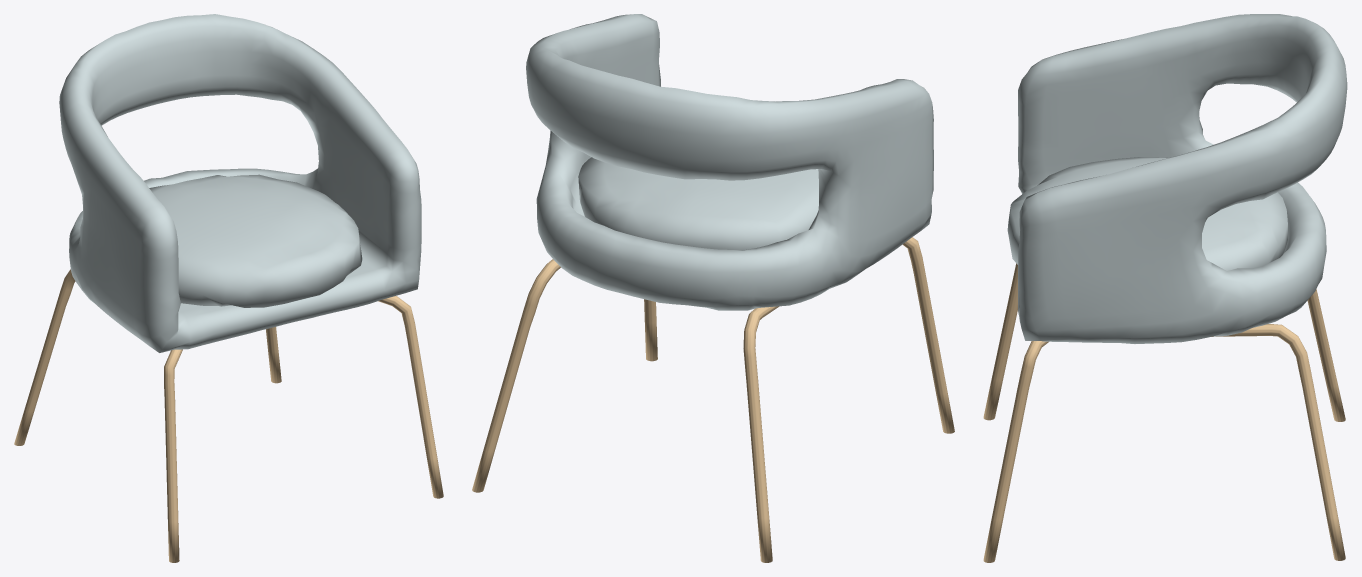
File: uploads_files_7063015_Ellen_dining_chair_3929a03d-34f6-4eb3-b837-748c6e00daad.fbx
3 renders of one model, left to right at view 1: azimuth 30°, elevation 25°; view 2: azimuth 150°, elevation 25°; view 3: azimuth 270°, elevation 25°, orthographic. The views are drawn at different scales.
Visible parts, largest first — view 1: Box002.002, Box002.001, Box002.009; view 2: Box002.002, Box002.001, Box002.009; view 3: Box002.002, Box002.009, Box002.001.
Boxes of the visible parts, left/top/right/bottom form: Box002.002: left=59, top=14, right=421, bottom=352; Box002.001: left=149, top=174, right=362, bottom=307; Box002.009: left=14, top=269, right=443, bottom=562; Box002.002: left=526, top=14, right=933, bottom=310; Box002.001: left=578, top=157, right=818, bottom=250; Box002.009: left=472, top=237, right=954, bottom=562; Box002.002: left=1018, top=14, right=1347, bottom=343; Box002.009: left=983, top=263, right=1345, bottom=562; Box002.001: left=1007, top=157, right=1287, bottom=270.
Bounding box in the file's own units: 58.41 × 79.87 × 60.33.
